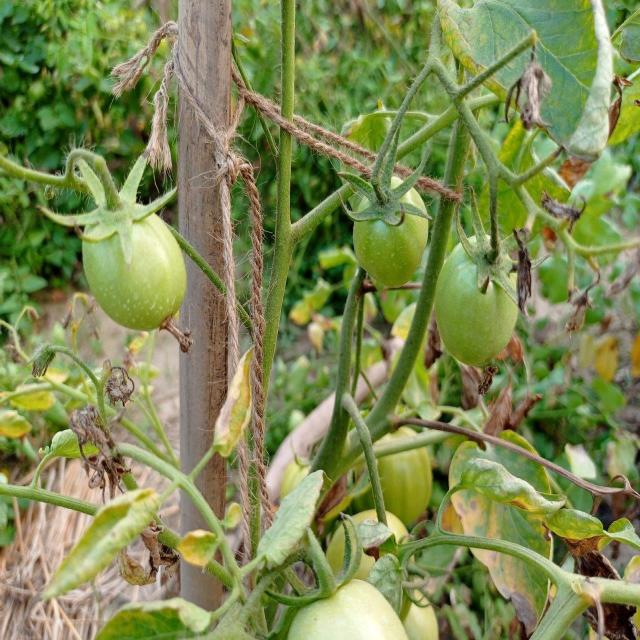Unripe: (82, 204, 186, 330), (437, 229, 521, 366), (353, 173, 427, 287)
